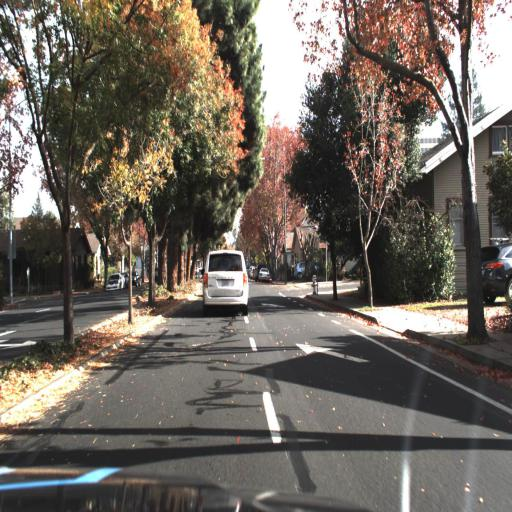car: (195, 245, 257, 323), (476, 239, 512, 311), (104, 270, 126, 292), (105, 269, 125, 292)
